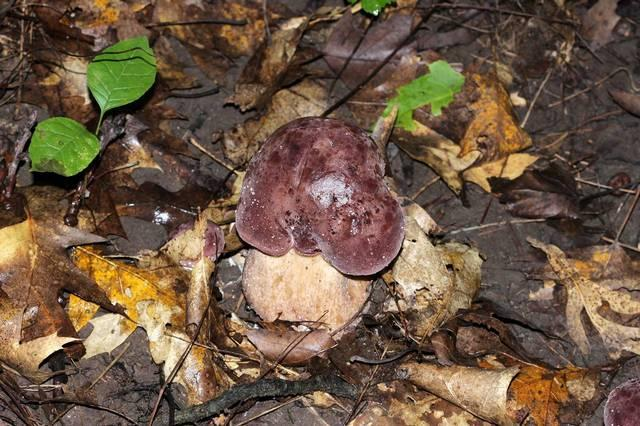Non-edible Mushroom: (233, 114, 406, 332)
